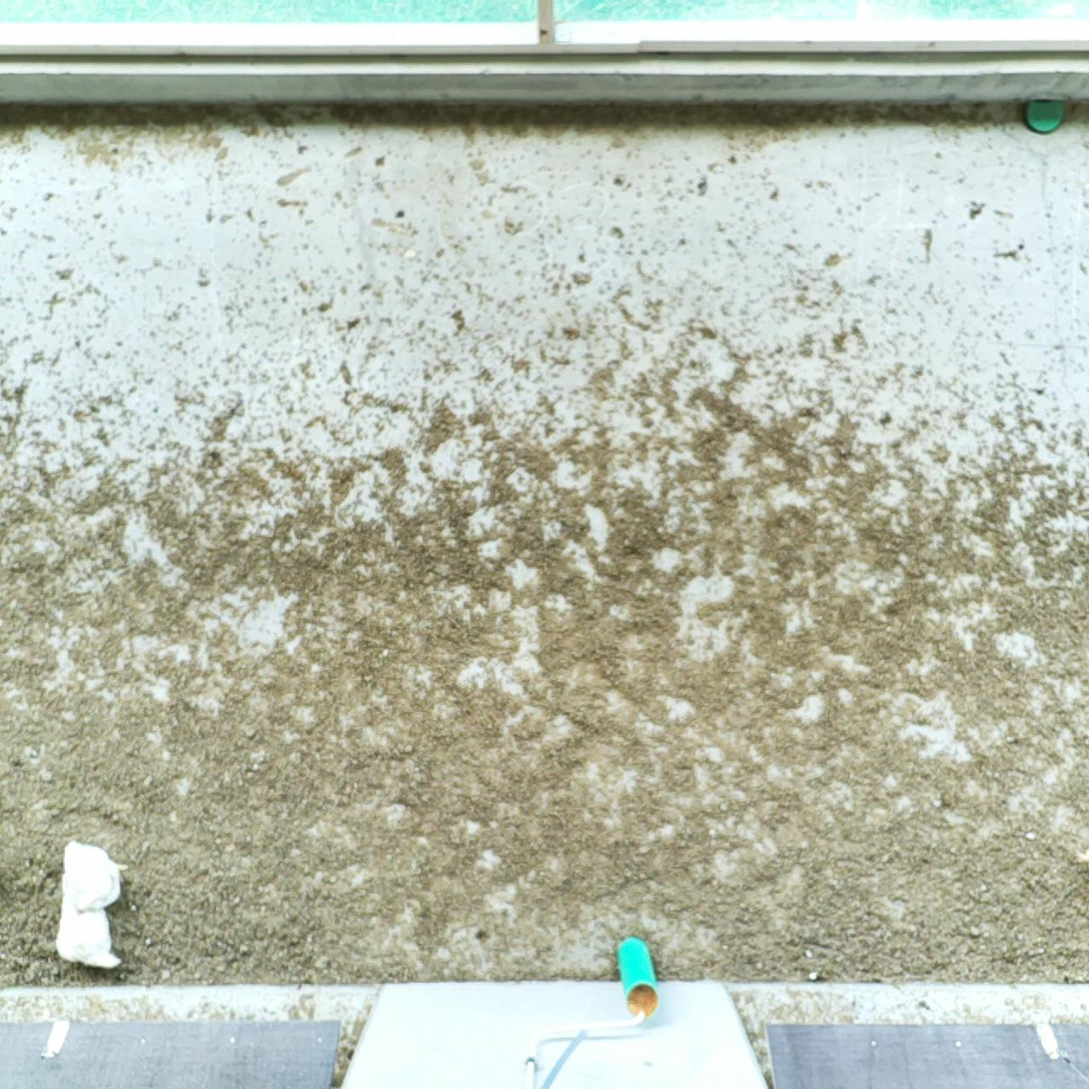chicken: (44, 894, 128, 975), (57, 836, 130, 918)
